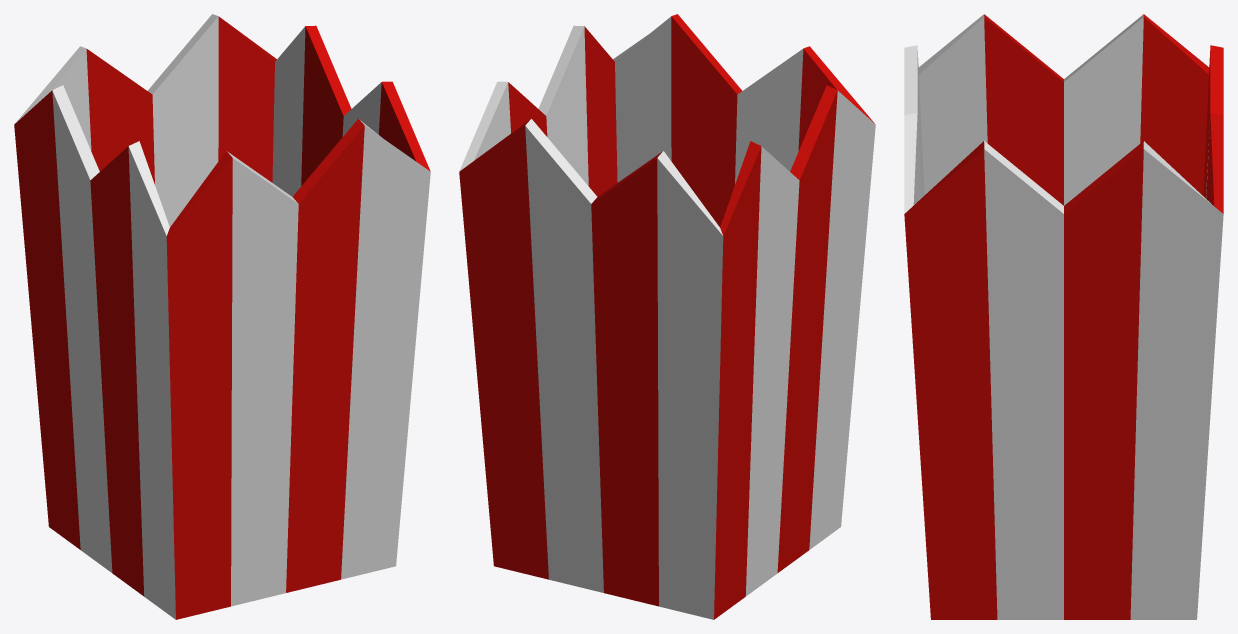
File: Pop Corn Bag.fbx
3 renders of one model, left to right at view 1: azimuth 30°, elevation 25°; view 2: azimuth 150°, elevation 25°; view 3: azimuth 270°, elevation 25°, orthographic. The views are drawn at different scales.
Parts seen in each view (by area): view 1: Pop Corn Bag; view 2: Pop Corn Bag; view 3: Pop Corn Bag.
Boxes of the visible parts, bbox=[...] form: Pop Corn Bag: bbox=[14, 14, 430, 619]; Pop Corn Bag: bbox=[459, 14, 875, 619]; Pop Corn Bag: bbox=[904, 14, 1223, 619].
Size of the model in its own units: 120 by 201 by 120.
